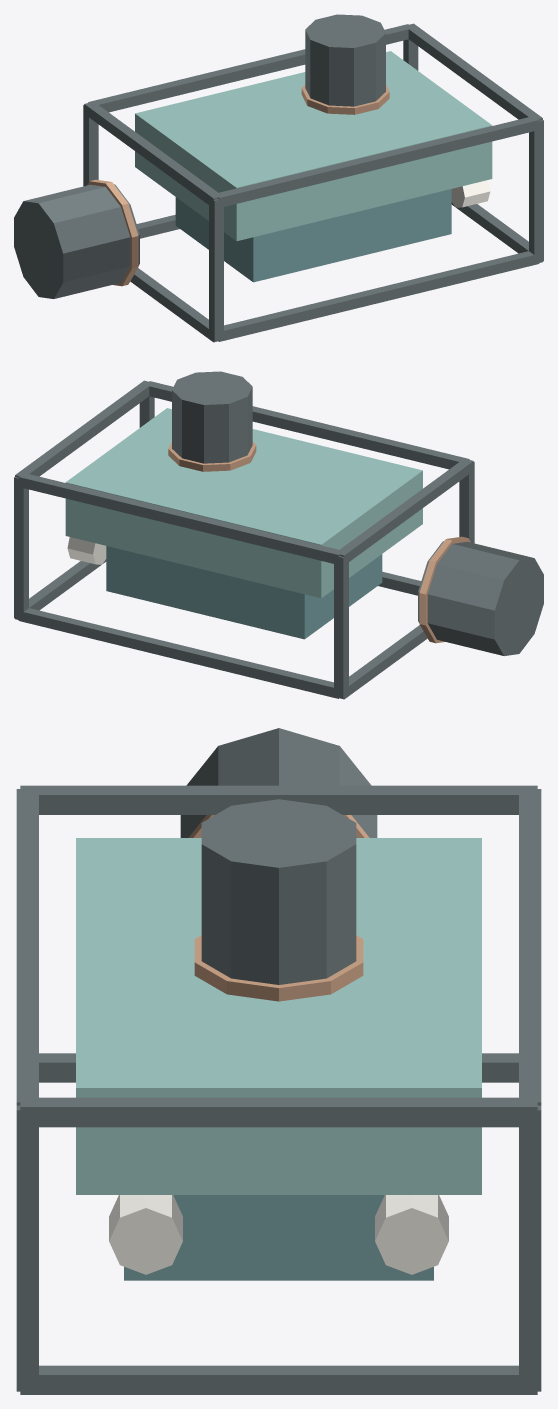
File: rov-ref.glb
The picture shows the model from 3 angles, top to bottom: view 1: azimuth 30°, elevation 25°; view 2: azimuth 150°, elevation 25°; view 3: azimuth 270°, elevation 25°; orthographic projection. The views are drawn at different scales.
Parts seen in each view (by area): view 1: rov-ref_root; view 2: rov-ref_root; view 3: rov-ref_root.
Boxes of the visible parts, left/top/right/bottom form: rov-ref_root: left=14, top=14, right=543, bottom=342; rov-ref_root: left=14, top=371, right=543, bottom=699; rov-ref_root: left=16, top=728, right=541, bottom=1394.
Bounding box in the file's own units: 1.38 × 0.645 × 0.71.
